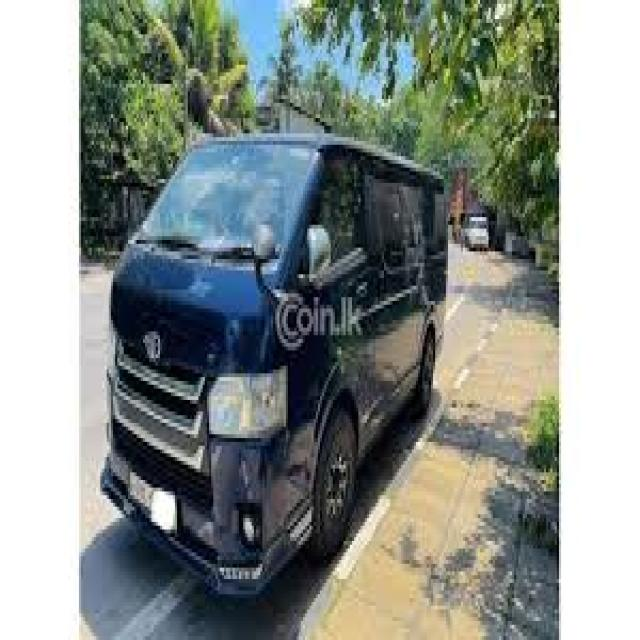van: (100, 137, 446, 598)
